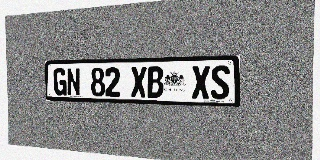2: (105, 67, 120, 97)
8: (91, 67, 105, 96)
B: (147, 66, 163, 98)
G: (54, 68, 67, 96)
N: (67, 68, 80, 96)
S: (211, 65, 230, 99)
X: (192, 66, 210, 99), (131, 67, 147, 97)
